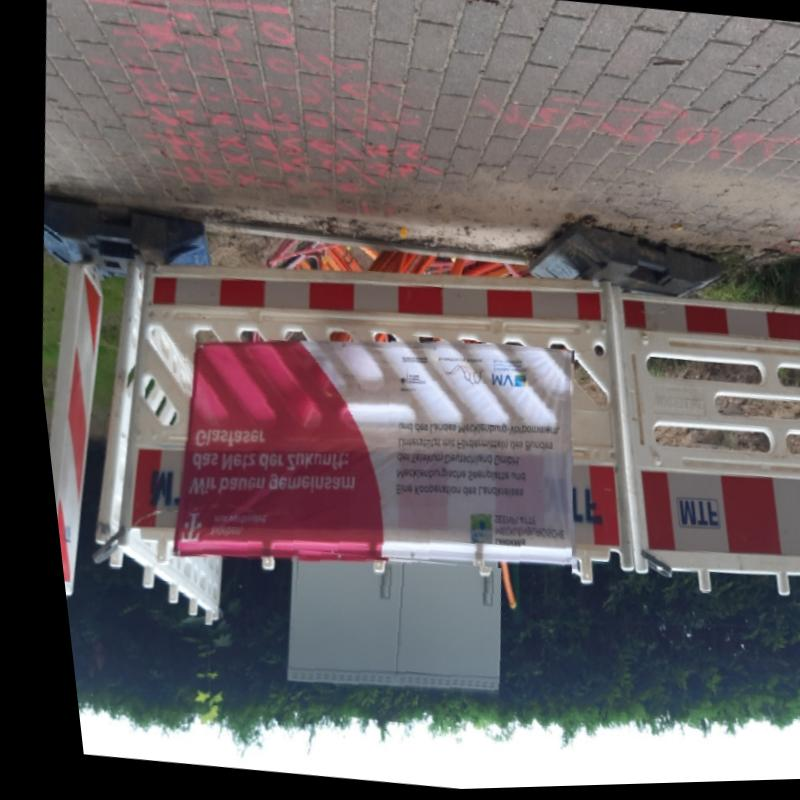Banner: (166, 345, 559, 553)
NT-Gehause: (274, 566, 487, 692)
